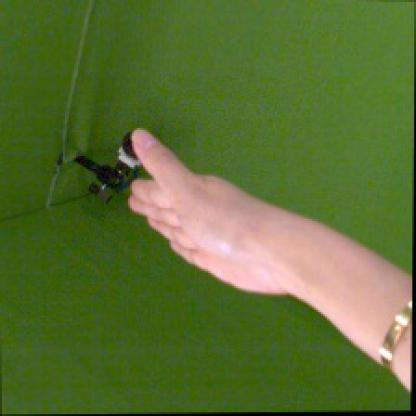Hand: (127, 130, 297, 295)
